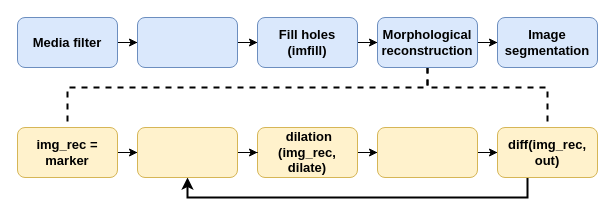
This 615x224 diagram has some shape labels left out. The shapes that lost their labels are listed below. From the top down, each one's centre as x and y in pixels, then its label:
At [187,42]: "Otsu thresholding".
At [187,152]: "out = img_rec".
At [427,152]: "Min(mask, dilate)".
